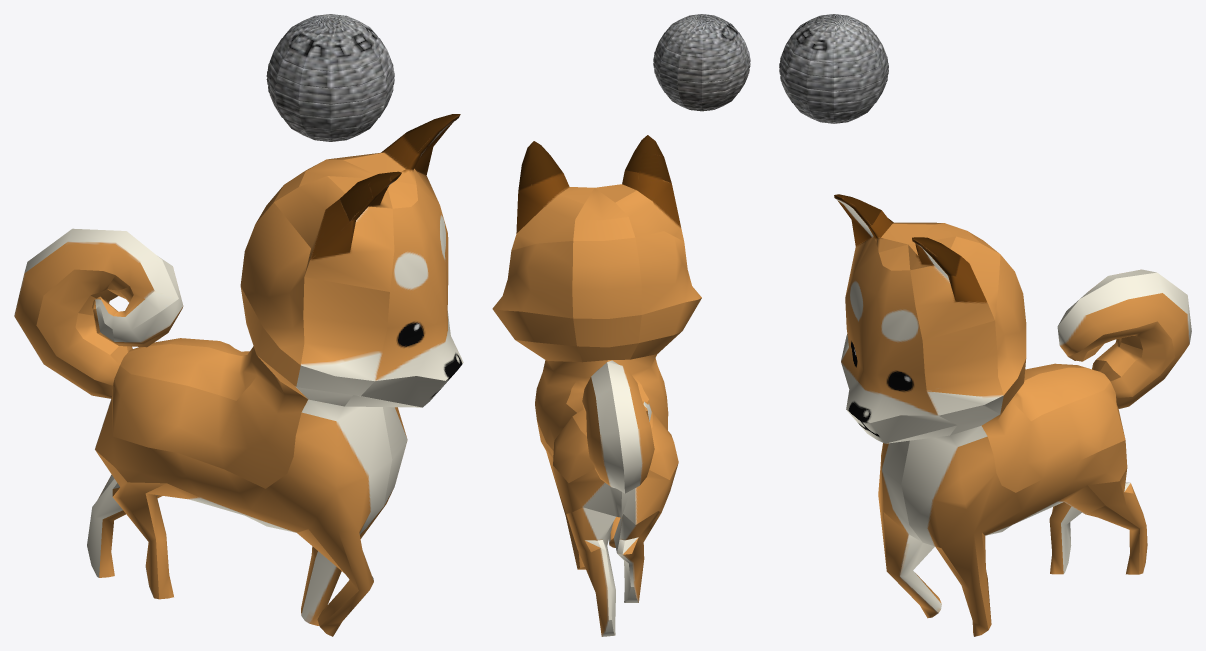
Rendered from ball_frame8.obj.
3 renders of one model, left to right at view 1: azimuth 30°, elevation 25°; view 2: azimuth 150°, elevation 25°; view 3: azimuth 270°, elevation 25°, orthographic. The views are drawn at different scales.
Parts seen in each view (by area): view 1: walk1:newRigging:BodzL1, pSphere1; view 2: walk1:newRigging:BodzL1, pSphere1; view 3: walk1:newRigging:BodzL1, pSphere1.
Part boxes in pixels (box(x1,y1,x2,y2)): walk1:newRigging:BodzL1: box(14, 114, 463, 636); pSphere1: box(266, 14, 394, 141); walk1:newRigging:BodzL1: box(492, 135, 701, 636); pSphere1: box(653, 14, 750, 111); walk1:newRigging:BodzL1: box(834, 194, 1191, 636); pSphere1: box(779, 14, 888, 123).
Bounding box in the file's own units: 4.92 × 10.62 × 6.77.
Materials: 2 (2 with a texture image).
